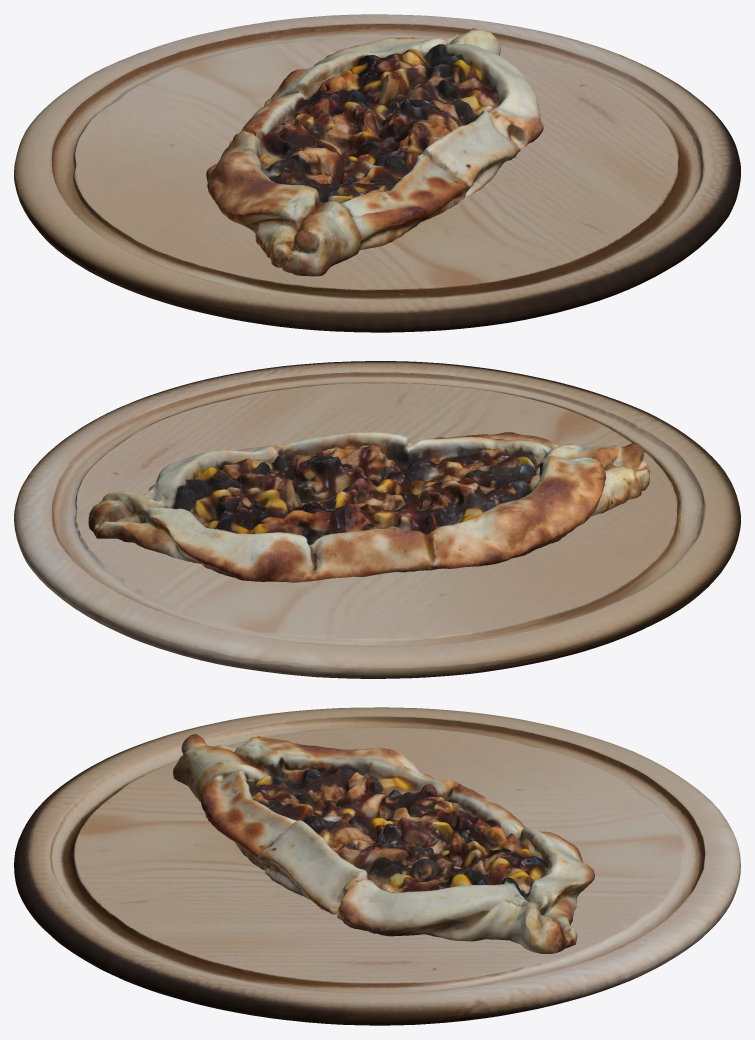
File: chicken.special.glb
3 renders of one model, top to bottom at view 1: azimuth 30°, elevation 25°; view 2: azimuth 150°, elevation 25°; view 3: azimuth 270°, elevation 25°, orthographic.
Parts seen in each view (by area): view 1: /Root/Scenes/Scene/Object_418/Object_422/Object_423/Submesh_, /Root/Scenes/Scene/Object_418/Object_419/Submesh_0; view 2: /Root/Scenes/Scene/Object_418/Object_422/Object_423/Submesh_, /Root/Scenes/Scene/Object_418/Object_419/Submesh_0; view 3: /Root/Scenes/Scene/Object_418/Object_422/Object_423/Submesh_, /Root/Scenes/Scene/Object_418/Object_419/Submesh_0.
Part boxes in pixels (box(x1,y1,x2,y2)): /Root/Scenes/Scene/Object_418/Object_422/Object_423/Submesh_: box(14, 14, 740, 332); /Root/Scenes/Scene/Object_418/Object_419/Submesh_0: box(206, 28, 543, 276); /Root/Scenes/Scene/Object_418/Object_422/Object_423/Submesh_: box(14, 361, 740, 678); /Root/Scenes/Scene/Object_418/Object_419/Submesh_0: box(88, 432, 650, 582); /Root/Scenes/Scene/Object_418/Object_422/Object_423/Submesh_: box(14, 707, 740, 1025); /Root/Scenes/Scene/Object_418/Object_419/Submesh_0: box(173, 734, 594, 953).
Size of the model in its own units: 0.338 by 0.0361 by 0.338.
2 materials, 2 textured.
